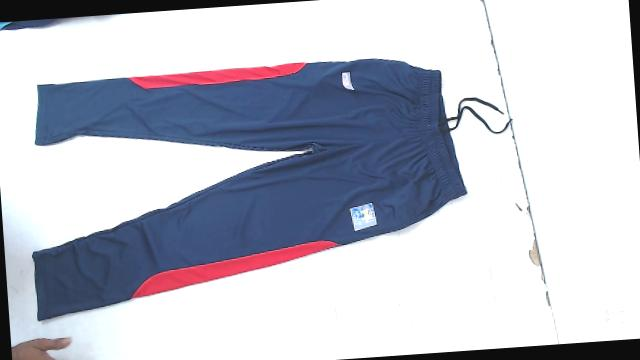new-garment: (33, 58, 466, 320)
